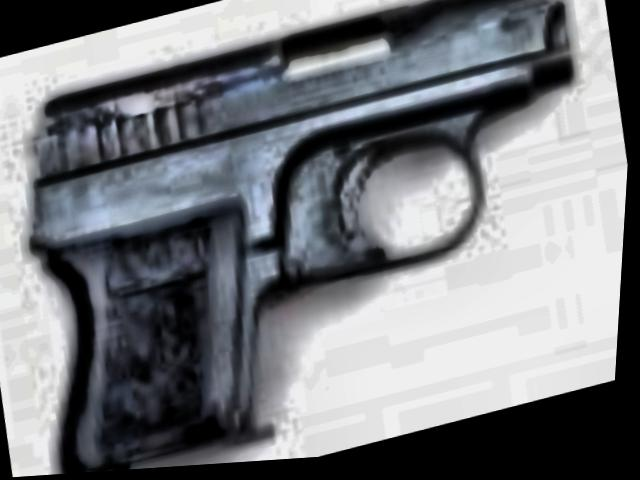pistol: (0, 0, 627, 479)
